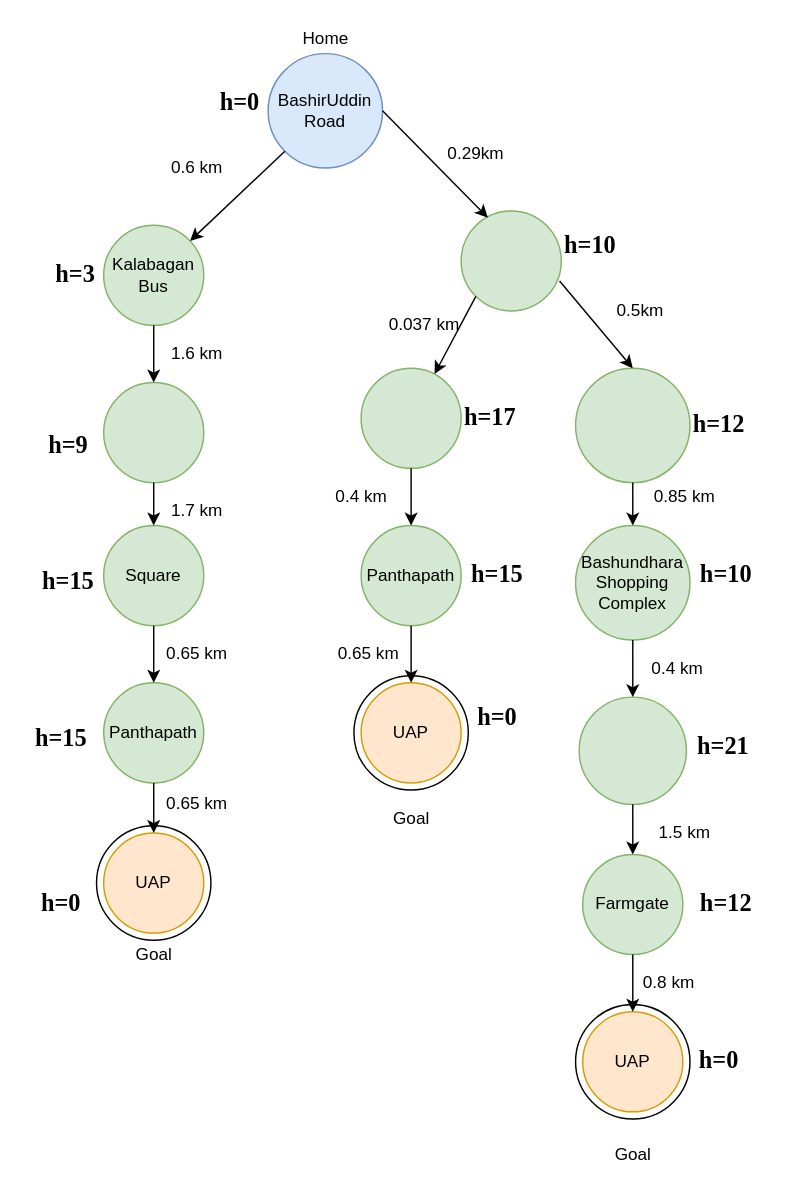
The diagram is 785 pixels wide and 1193 high, and some of its shapes have lost their labels. The centre of each missing label's shape, as x and y in pixels:
"Comfort" goes at point (510, 260).
"Green Road" goes at point (410, 417).
"Kathalbagan Bazar" goes at point (632, 425).
"Kazi Nazrul Avenue" goes at point (632, 750).
"Shankar" goes at point (153, 432).
